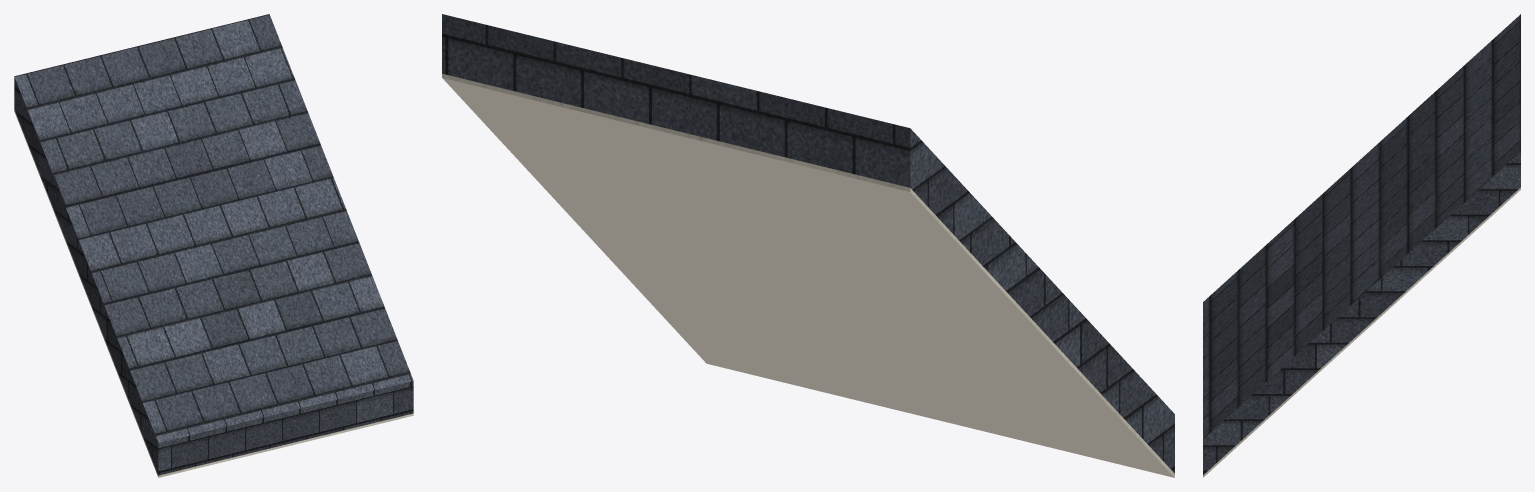
The model's file is garage_roof_house_end_l.glb.
3 views of the same model, side by side, from view 1: azimuth 30°, elevation 25°; view 2: azimuth 150°, elevation 25°; view 3: azimuth 270°, elevation 25° (orthographic). The views are drawn at different scales.
Parts seen in each view (by area): view 1: garage_roof_house_end_l_shingle, garage_roof_house_end_l_plaster; view 2: garage_roof_house_end_l_plaster, garage_roof_house_end_l_shingle; view 3: garage_roof_house_end_l_shingle, garage_roof_house_end_l_plaster.
Part boxes in pixels (bbox=[...]): garage_roof_house_end_l_shingle: bbox=[14, 14, 413, 475]; garage_roof_house_end_l_plaster: bbox=[14, 109, 413, 477]; garage_roof_house_end_l_plaster: bbox=[442, 73, 1174, 477]; garage_roof_house_end_l_shingle: bbox=[442, 14, 1174, 473]; garage_roof_house_end_l_shingle: bbox=[1203, 14, 1520, 474]; garage_roof_house_end_l_plaster: bbox=[1203, 187, 1520, 477].
Bounding box in the file's own units: 2.3 × 2.55 × 2.25.
Materials: 2 (2 with a texture image).
